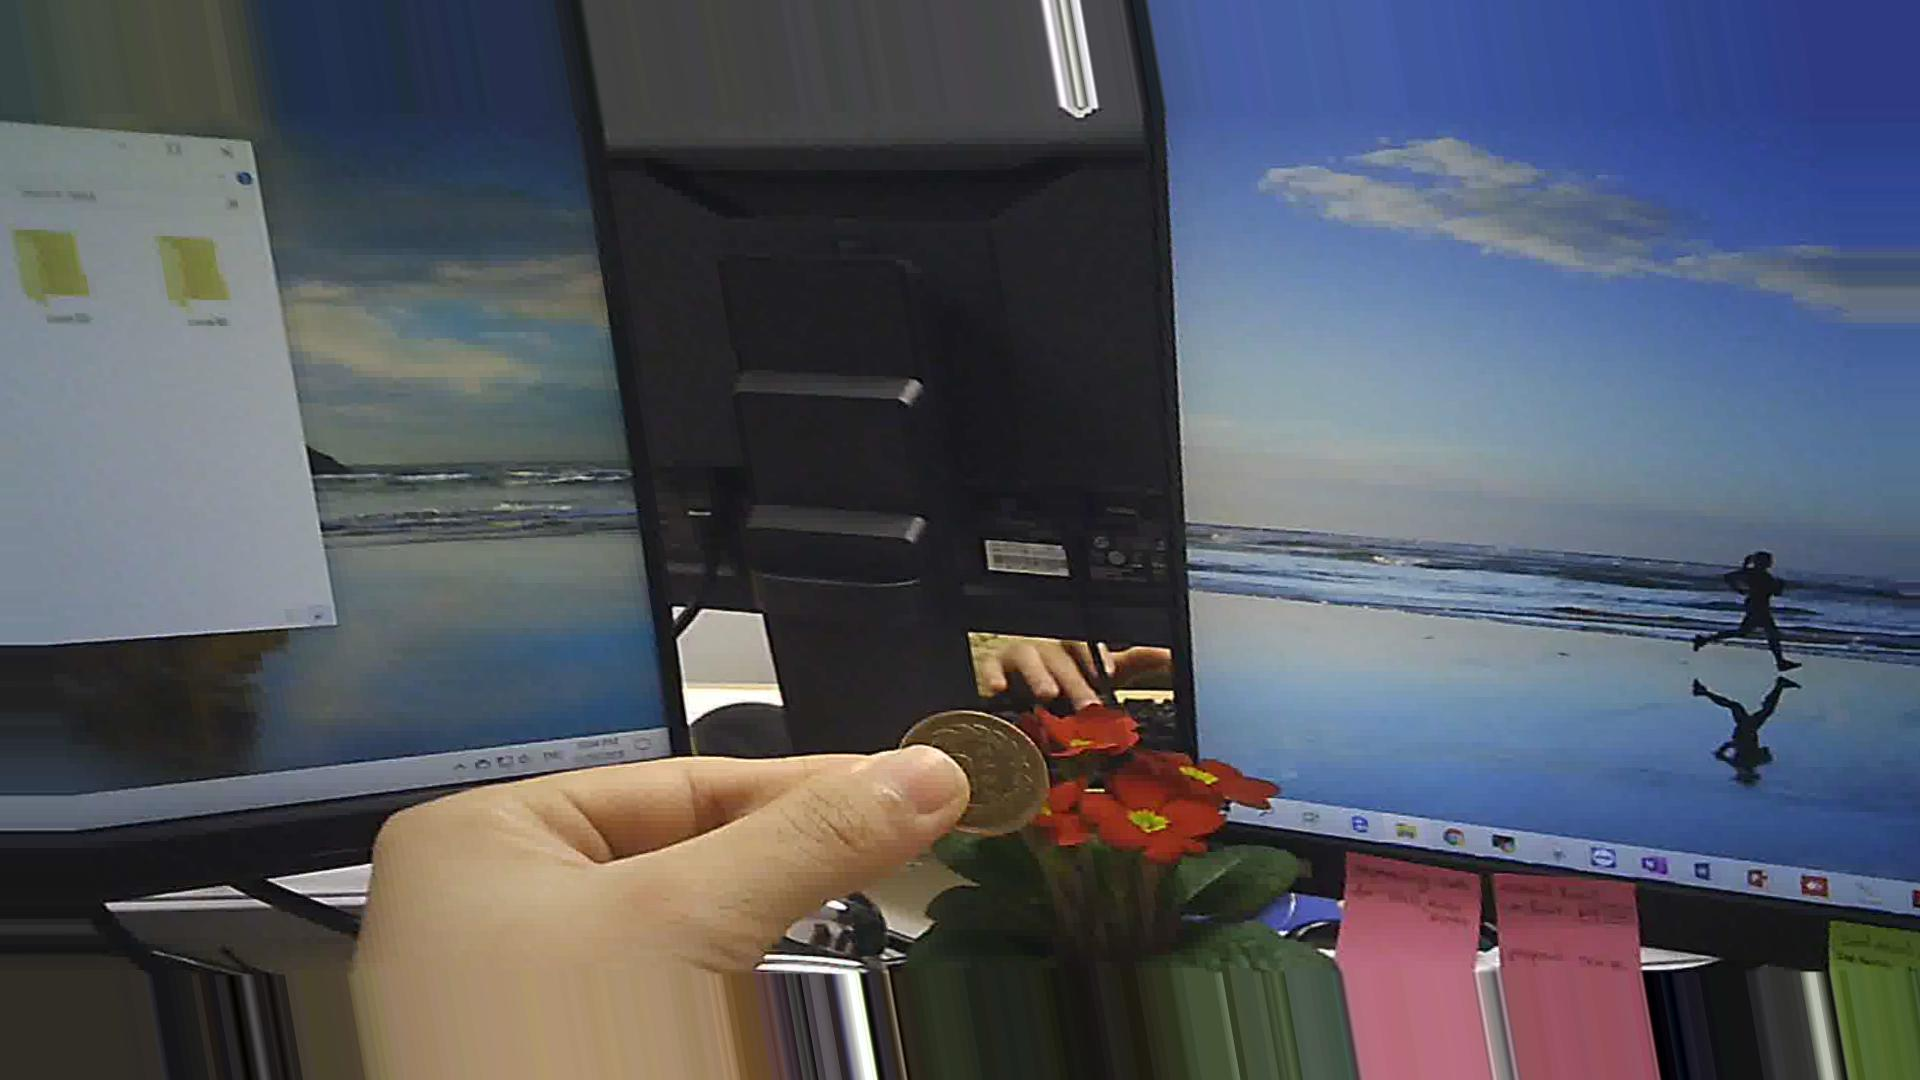10 Yen: (878, 703, 1048, 843)
